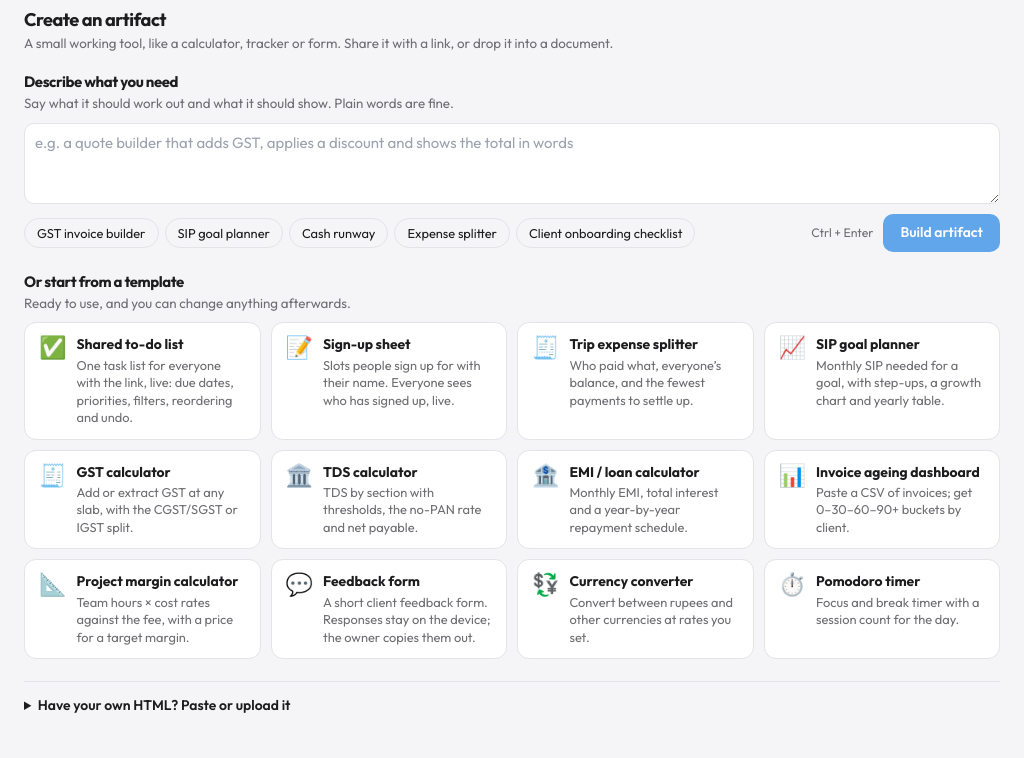
Test: the plan card › "Edit request" goes back to the prompt with the text kept
Replace the text in the text box named "Describe the artifact" with "a poll for lunch": (512, 164) [24, 123, 1000, 204]
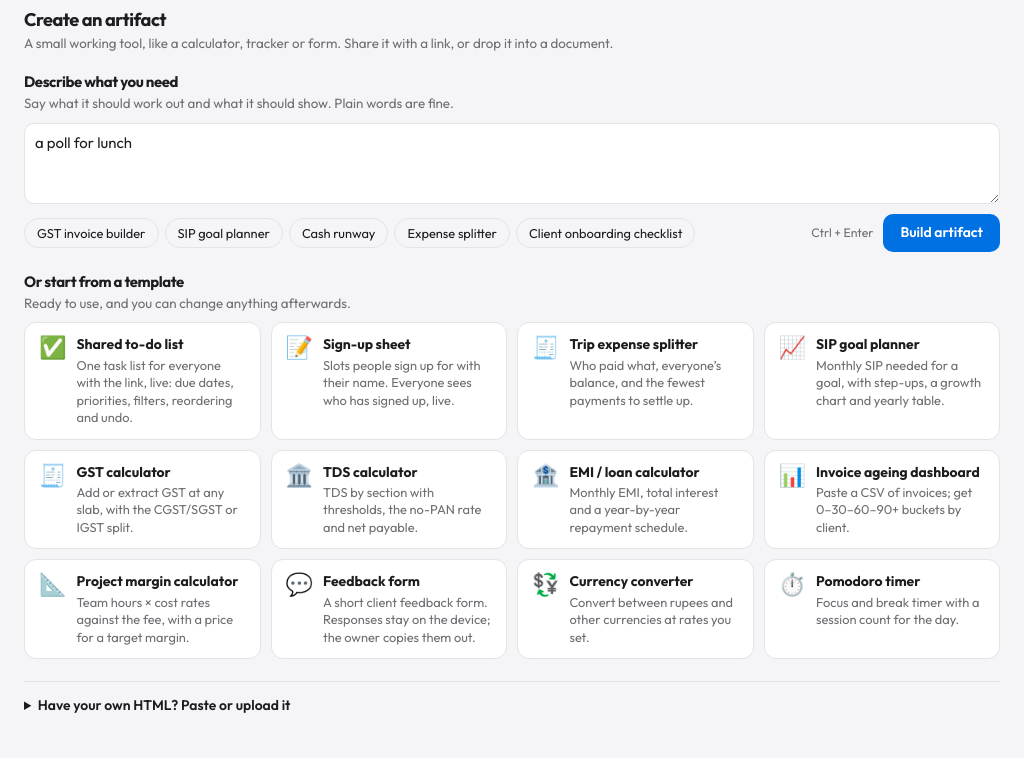
Click the button "Build artifact": (942, 233) [883, 214, 1000, 252]
(page scrolled)
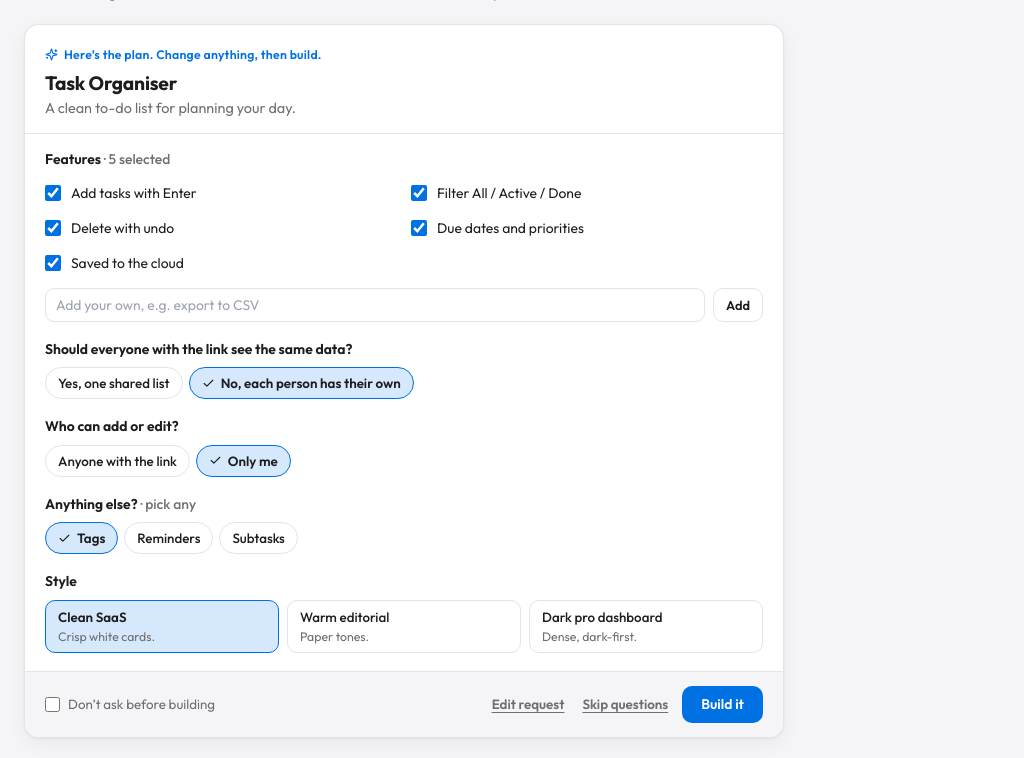
Expected: the heading "Task Organiser" is shown, [45, 71, 177, 95]
Click the button "Edit request": (528, 705) [488, 689, 568, 721]
(page scrolled)
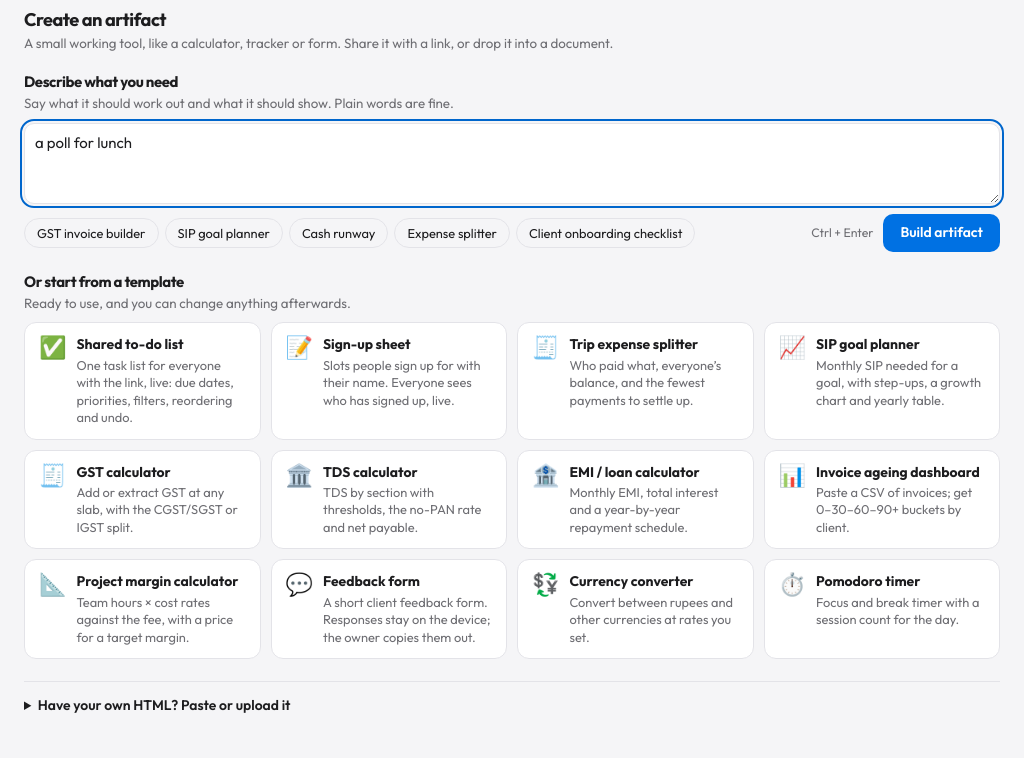
Expected: the text box named "Describe the artifact" holds "a poll for lunch", [24, 123, 1000, 204]
